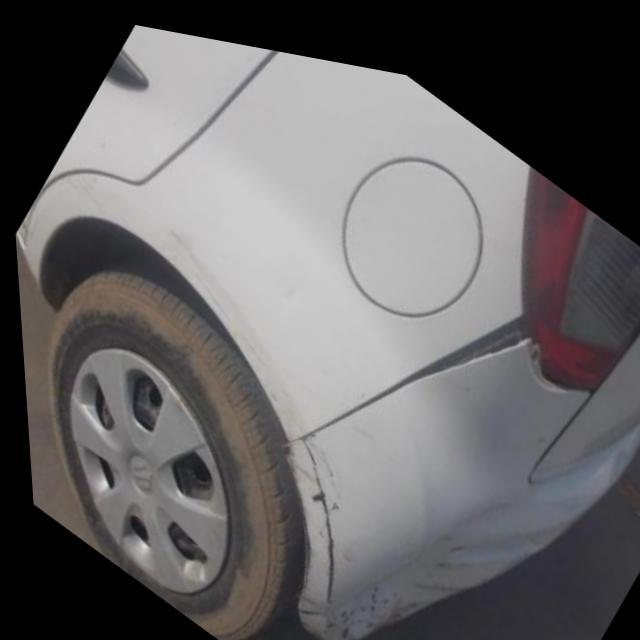crack: (301, 432, 328, 604), (13, 215, 28, 243)
dislocated part: (274, 294, 530, 440), (523, 318, 592, 378), (291, 583, 312, 610)
rub: (314, 569, 414, 637)
